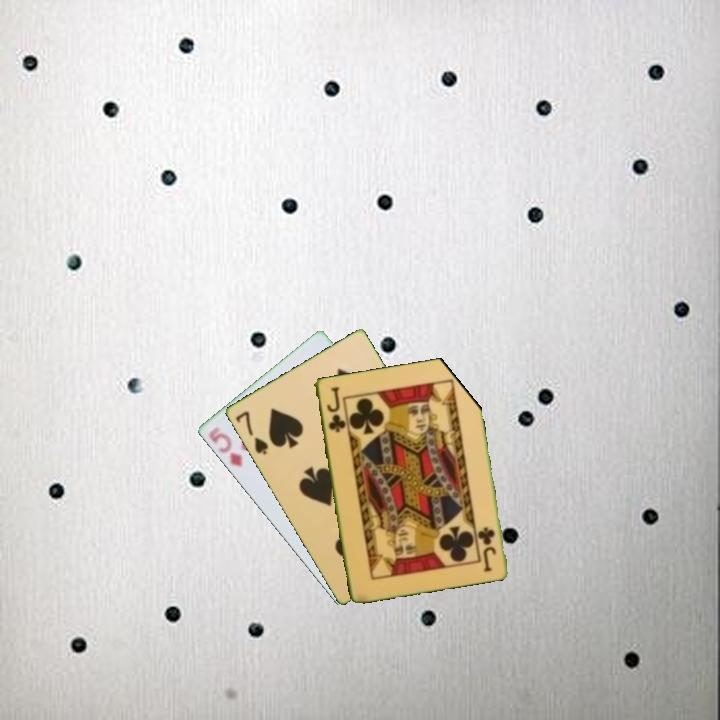5d: (204, 423, 245, 470)
7s: (231, 407, 271, 457)
Jc: (323, 383, 347, 435), (475, 523, 499, 574)
